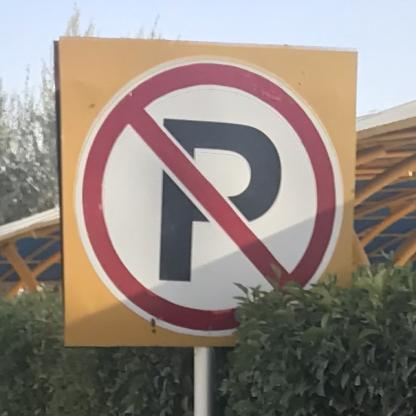No Parking: (58, 38, 360, 352)
